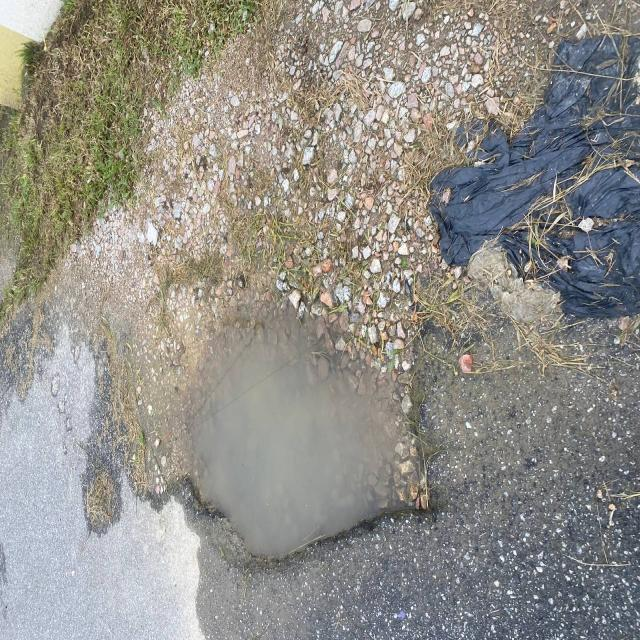Pothole: (97, 257, 552, 640)
